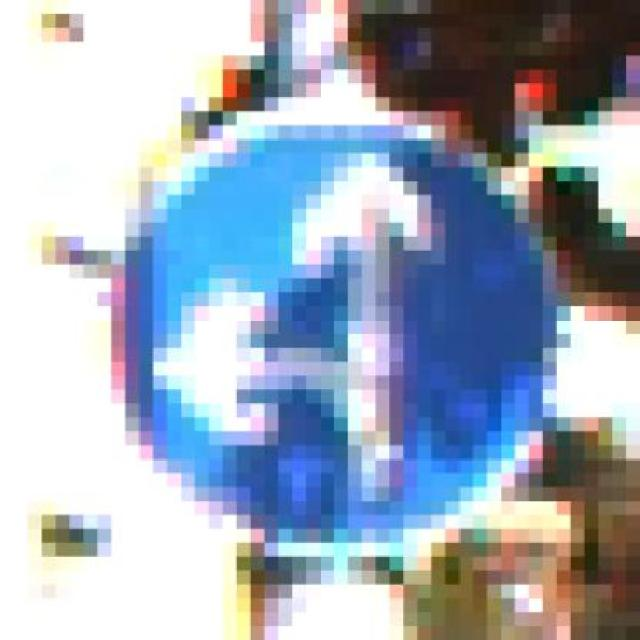Go straight or turn left: (83, 83, 571, 585)
